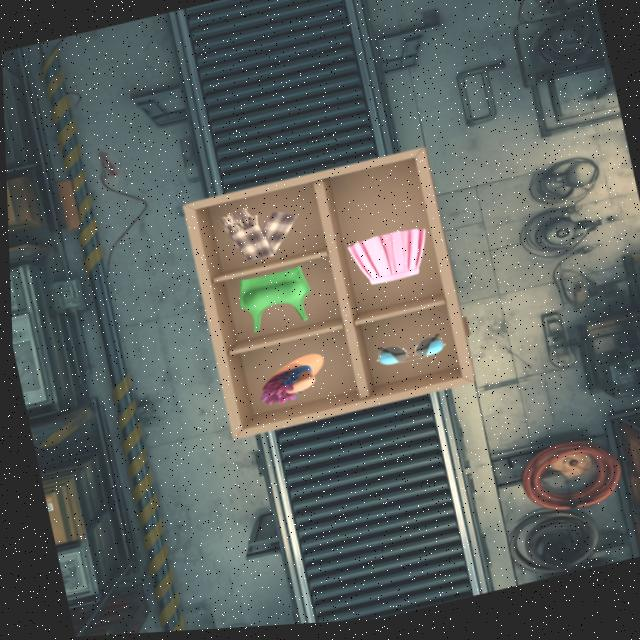hat: (261, 353, 323, 404)
scarf: (218, 208, 297, 260)
skirt: (348, 228, 426, 283)
sunglasses: (377, 333, 445, 365)
top: (240, 266, 311, 332)
